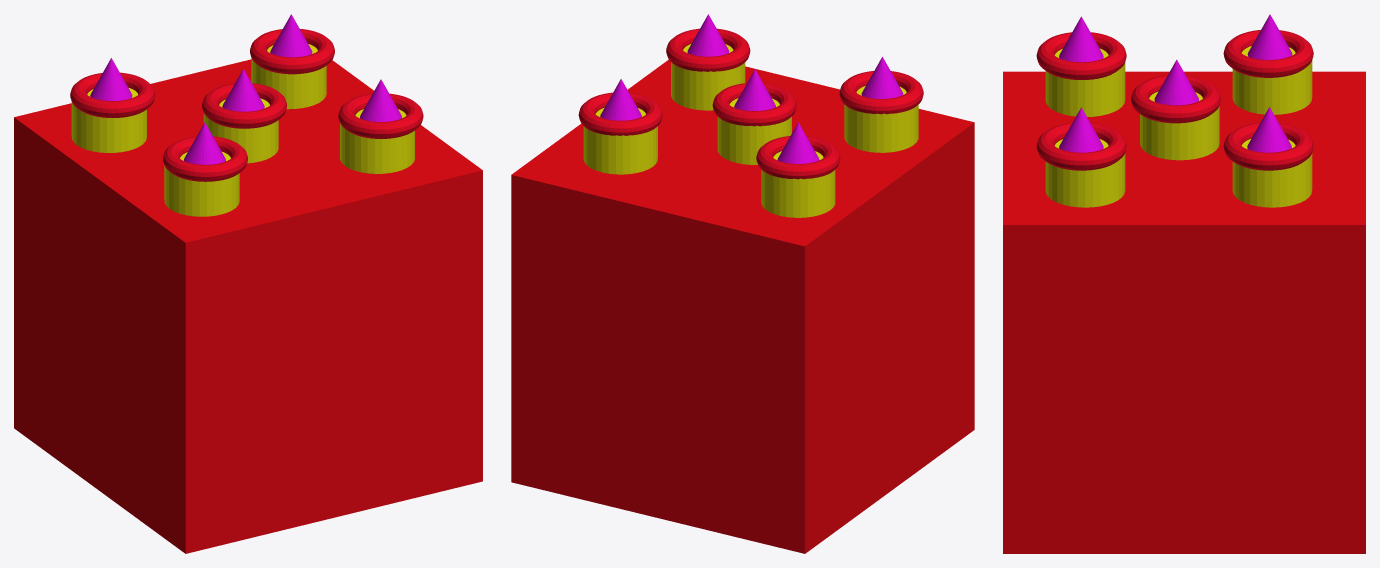
The model's file is redresearch.glb.
The picture shows the model from 3 angles, left to right: view 1: azimuth 30°, elevation 25°; view 2: azimuth 150°, elevation 25°; view 3: azimuth 270°, elevation 25°; orthographic projection. The views are drawn at different scales.
Visible parts, largest first — view 1: Cube, Cylinder.004, Cylinder, Cylinder.003, Torus.003, Torus.002, Torus.004, Torus.001, Torus, Cylinder.002, Cylinder.005, Cone.001 (+4 smaller); view 2: Cube, Cylinder.002, Cylinder, Cylinder.004, Cylinder.003, Cylinder.005, Torus, Torus.001, Torus.004, Torus.002, Torus.003, Cone.002 (+4 smaller); view 3: Cube, Cylinder.003, Cylinder.002, Cylinder.005, Cylinder, Cylinder.004, Torus.002, Torus.001, Torus, Torus.004, Torus.003, Cone.001 (+4 smaller).
Boxes of the visible parts, box(x1,y1,x2,y2) form: Cube: box(14, 59, 482, 553); Cylinder.004: box(164, 151, 239, 216); Cylinder: box(71, 87, 146, 152); Cylinder.003: box(340, 109, 414, 173); Torus.003: box(163, 136, 247, 181); Torus.002: box(338, 93, 423, 138); Torus.004: box(202, 83, 286, 128); Torus.001: box(250, 29, 334, 74); Torus: box(70, 72, 155, 117); Cylinder.002: box(251, 44, 326, 109); Cylinder.005: box(203, 98, 278, 163); Cone.001: box(270, 14, 312, 57); Cube: box(511, 59, 974, 553); Cylinder.002: box(583, 107, 657, 174); Cylinder: box(761, 151, 835, 217); Cylinder.004: box(844, 86, 918, 152); Cylinder.003: box(671, 44, 745, 110); Cylinder.005: box(717, 98, 791, 164); Torus: box(756, 136, 840, 179); Torus.001: box(578, 92, 662, 135); Torus.004: box(712, 83, 796, 126); Torus.002: box(666, 28, 750, 71); Torus.003: box(839, 71, 923, 114); Cone.002: box(687, 14, 729, 56); Cube: box(1003, 71, 1365, 553); Cylinder.003: box(1045, 139, 1125, 207); Cylinder.002: box(1232, 139, 1312, 207); Cylinder.005: box(1140, 91, 1219, 160); Cylinder: box(1232, 46, 1312, 114); Cylinder.004: box(1045, 48, 1125, 116); Torus.002: box(1036, 122, 1126, 170); Torus.001: box(1223, 122, 1313, 170); Torus: box(1223, 30, 1313, 77); Torus.004: box(1131, 75, 1220, 123); Torus.003: box(1036, 32, 1126, 79); Cone.001: box(1247, 107, 1291, 152).
Size of the model in its own units: 9.03 by 11.35 by 9.03.
